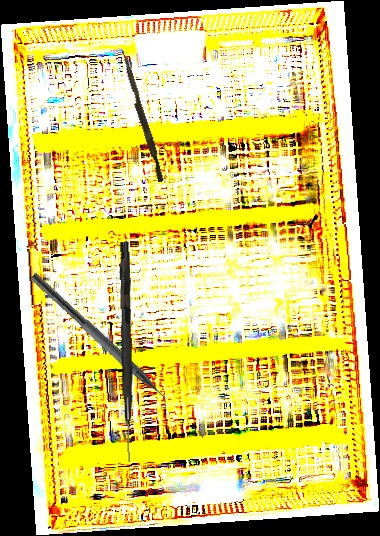Chopper: (20, 272, 182, 420)
Hook Surgical: (117, 241, 137, 463)
Pusher: (116, 50, 168, 183)
